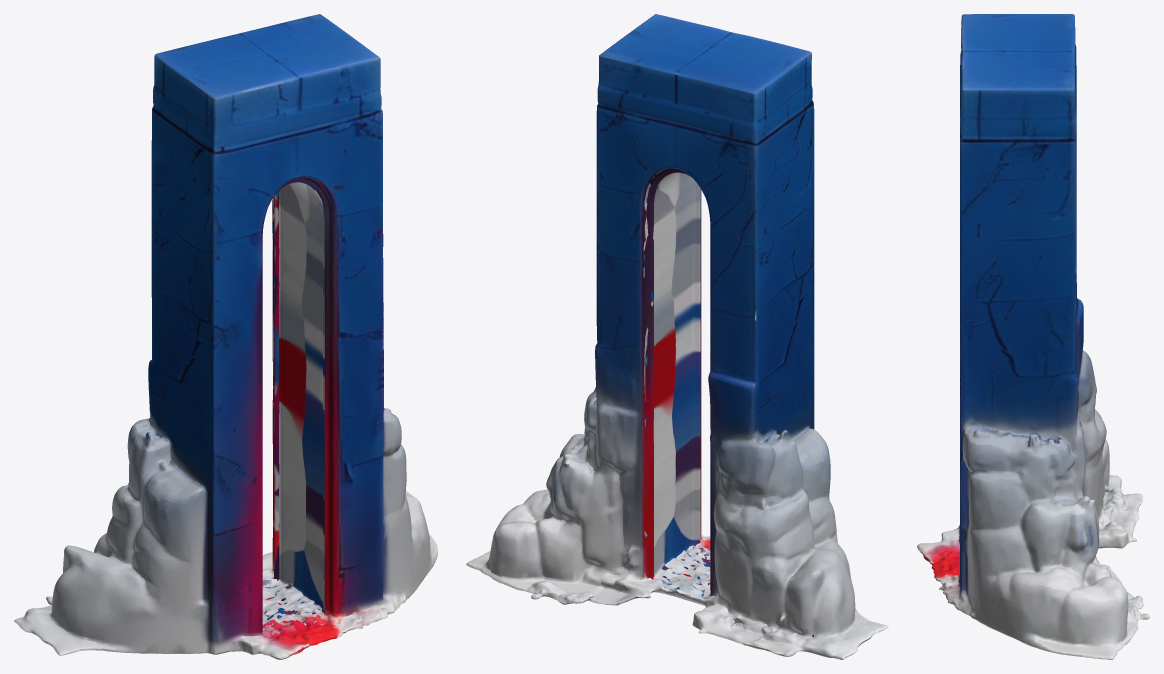
Rendered from weathered-monolith-pillar-generated-2026-04-18t22-01-36-007z-generated-2026-04-19T00-42-38-513Z.high.glb.
3 renders of one model, left to right at view 1: azimuth 30°, elevation 25°; view 2: azimuth 150°, elevation 25°; view 3: azimuth 270°, elevation 25°, orthographic. The views are drawn at different scales.
Visible parts, largest first — view 1: temp_mesh.ply; view 2: temp_mesh.ply; view 3: temp_mesh.ply.
Part boxes in pixels (x1,y1,x2,y2): temp_mesh.ply: (14,14,437,659); temp_mesh.ply: (466,14,888,659); temp_mesh.ply: (917,14,1149,659).
Size of the model in its own units: 1.5 by 1.97 by 0.8029.
Materials: 1 (1 with a texture image).
